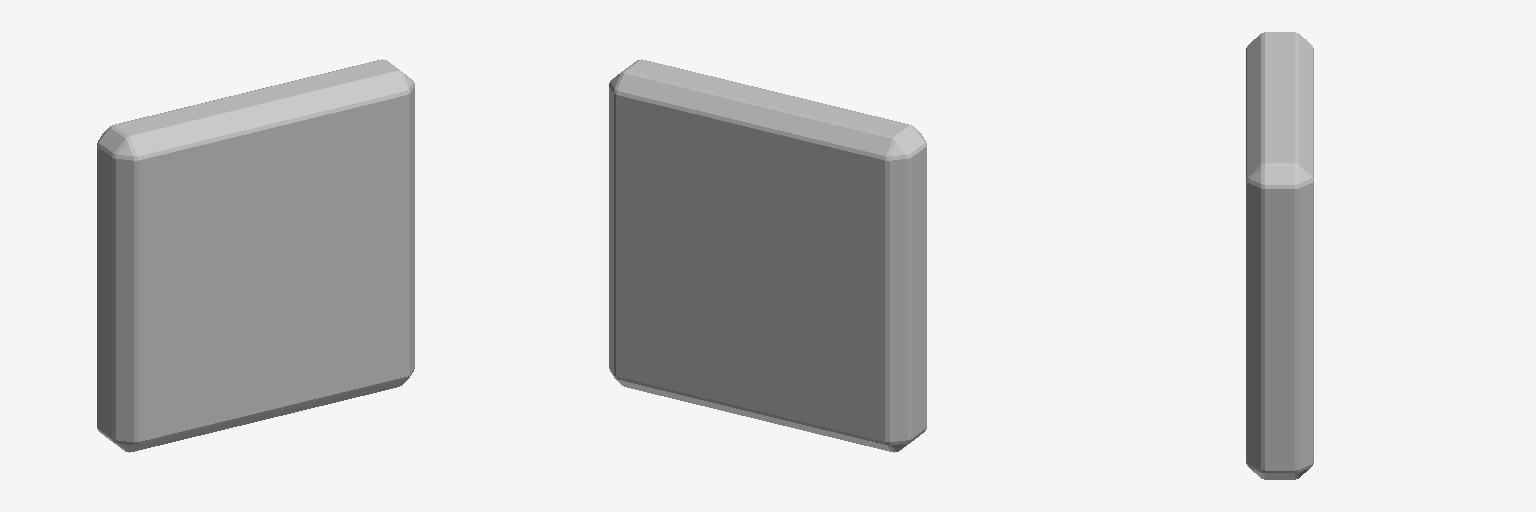
Rendered from shape_verts_plate.obj.
3 views of the same model, side by side, from view 1: azimuth 30°, elevation 25°; view 2: azimuth 150°, elevation 25°; view 3: azimuth 270°, elevation 25° (orthographic).
Visible parts, largest first — view 1: Cube.001_Cube.002; view 2: Cube.001_Cube.002; view 3: Cube.001_Cube.002.
Part boxes in pixels (bbox=[...]): Cube.001_Cube.002: bbox=[97, 59, 414, 452]; Cube.001_Cube.002: bbox=[609, 59, 926, 452]; Cube.001_Cube.002: bbox=[1246, 32, 1313, 479].
Bounding box in the file's own units: 2 × 2 × 0.3931.